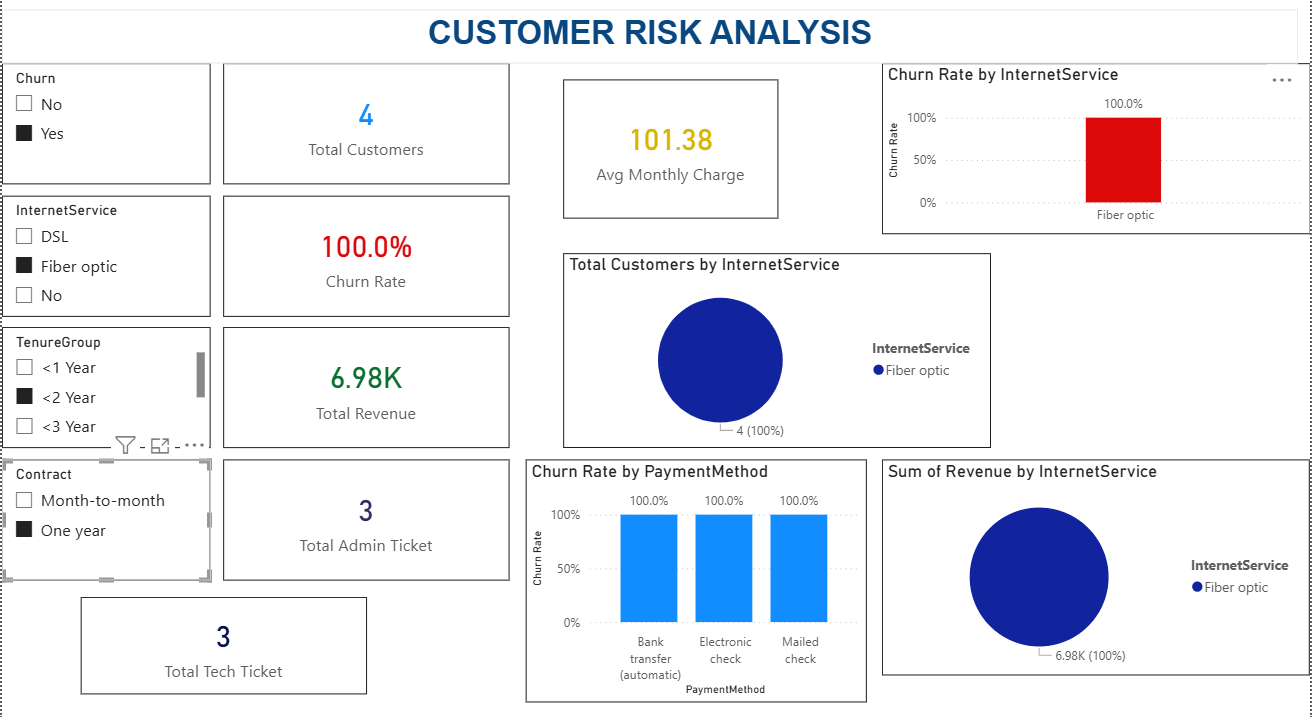

What the dashboard file says about the page in this screenshot:
{"tool":"powerbi","page":{"name":"CUSTOMER RISK ANALYSIS","canvas":[1280,720],"ordinal":1},"visuals":[{"type":"slicer","fields":{"Values":["customer_churn_cleaned.Churn"]},"box":[0,69.7,204.2,118.6],"z":0},{"type":"slicer","fields":{"Values":["customer_churn_cleaned.InternetService"]},"box":[0,199.3,204.2,118.6],"z":1000},{"type":"slicer","fields":{"Values":["customer_churn_cleaned.TenureGroup"]},"box":[0,327.7,204.2,118.6],"z":2000},{"type":"slicer","fields":{"Values":["customer_churn_cleaned.Contract"]},"box":[0,457.3,204.2,118.6],"z":3000},{"type":"card","fields":{"Values":["customer_churn_cleaned.Total Customers"]},"box":[216.4,69.7,280,118.6],"z":4000},{"type":"card","fields":{"Values":["customer_churn_cleaned.Churn Rate"]},"box":[216.4,199.3,280,118.6],"z":5000},{"type":"card","fields":{"Values":["customer_churn_cleaned.Total Revenue"]},"box":[216.4,327.7,280,118.6],"z":6000},{"type":"card","fields":{"Values":["customer_churn_cleaned.Total Admin Ticket"]},"box":[216.4,457.3,280,118.6],"z":7000},{"type":"card","fields":{"Values":["customer_churn_cleaned.Total Tech Ticket"]},"box":[77,591.9,280,95.4],"z":8000},{"type":"clusteredColumnChart","fields":{"Category":["customer_churn_cleaned.InternetService"],"Y":["customer_churn_cleaned.Churn Rate"]},"box":[860.9,69.7,419.4,167.5],"z":9000},{"type":"pieChart","fields":{"Category":["customer_churn_cleaned.InternetService"],"Y":["customer_churn_cleaned.Total Customers"]},"box":[549.1,255.6,418.2,190.8],"z":10000},{"type":"pieChart","fields":{"Category":["customer_churn_cleaned.InternetService"],"Y":["Sum(customer_churn_cleaned.Revenue)"]},"box":[860.9,457.3,418.2,211.6],"z":11000},{"type":"clusteredColumnChart","fields":{"Category":["customer_churn_cleaned.PaymentMethod"],"Y":["customer_churn_cleaned.Churn Rate"]},"box":[512.4,457.3,333.8,237.2],"z":12000},{"type":"textbox","box":[0,17.1,1268.1,52.6],"z":13000},{"type":"card","fields":{"Values":["customer_churn_cleaned.Avg Monthly Charge"]},"box":[549.1,85.6,210.3,135.7],"z":14000}]}

Visuals, with their boxes in screenshot pixels (x1, y1, x2, y2):
slicer - customer_churn_cleaned.Churn: <region>0, 64, 208, 185</region>
slicer - customer_churn_cleaned.InternetService: <region>0, 196, 208, 317</region>
slicer - customer_churn_cleaned.TenureGroup: <region>0, 327, 208, 448</region>
slicer - customer_churn_cleaned.Contract: <region>0, 459, 208, 580</region>
card - customer_churn_cleaned.Total Customers: <region>221, 64, 506, 185</region>
card - customer_churn_cleaned.Churn Rate: <region>221, 196, 506, 317</region>
card - customer_churn_cleaned.Total Revenue: <region>221, 327, 506, 448</region>
card - customer_churn_cleaned.Total Admin Ticket: <region>221, 459, 506, 580</region>
card - customer_churn_cleaned.Total Tech Ticket: <region>79, 597, 364, 694</region>
clusteredColumnChart - customer_churn_cleaned.InternetService x customer_churn_cleaned.Churn Rate: <region>878, 64, 1305, 235</region>
pieChart - customer_churn_cleaned.InternetService x customer_churn_cleaned.Total Customers: <region>560, 254, 986, 448</region>
pieChart - customer_churn_cleaned.InternetService x Sum(customer_churn_cleaned.Revenue): <region>878, 459, 1304, 675</region>
clusteredColumnChart - customer_churn_cleaned.PaymentMethod x customer_churn_cleaned.Churn Rate: <region>522, 459, 863, 701</region>
textbox: <region>0, 11, 1293, 64</region>
card - customer_churn_cleaned.Avg Monthly Charge: <region>560, 80, 774, 219</region>
